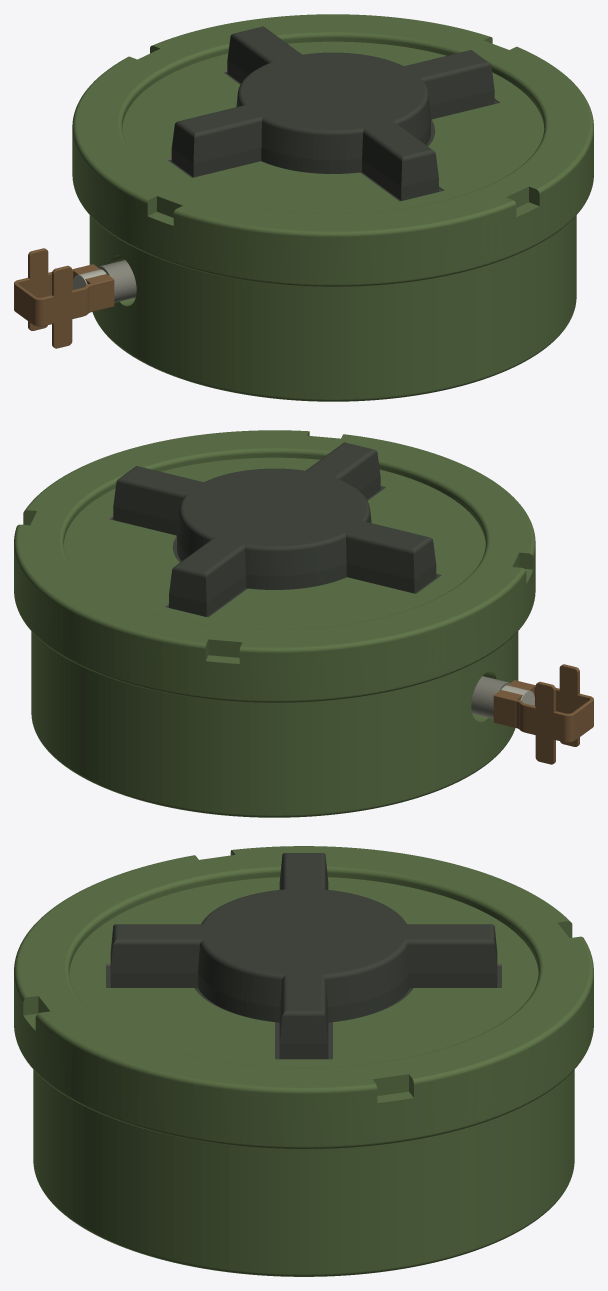
Rendered from pmn-2-complete.glb.
3 views of the same model, one above another, from view 1: azimuth 30°, elevation 25°; view 2: azimuth 150°, elevation 25°; view 3: azimuth 270°, elevation 25° (orthographic). The views are drawn at different scales.
Bounding box in the file's own units: 0.1421 × 0.053 × 0.12.
